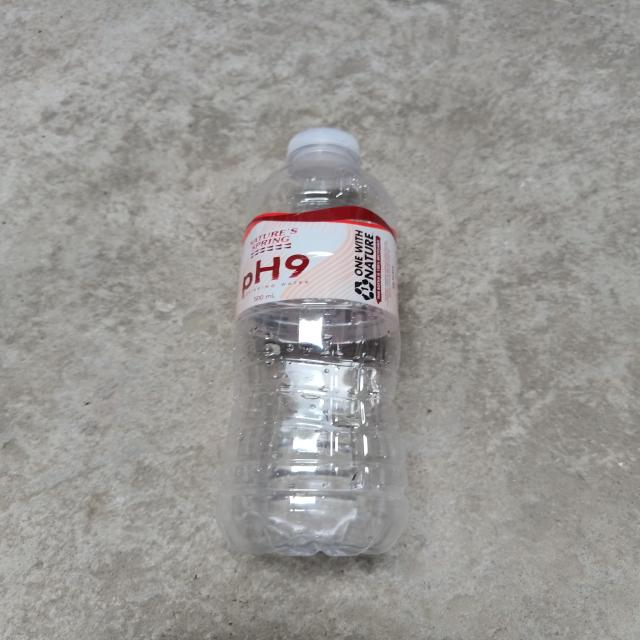Bottle: (218, 128, 407, 557)
